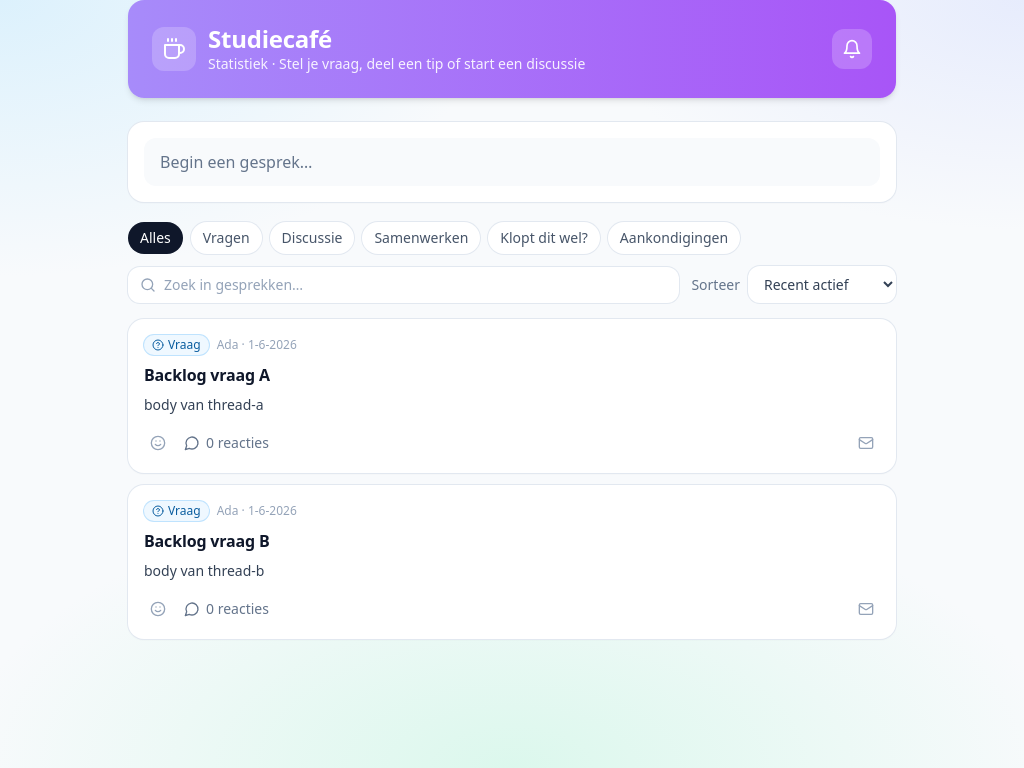
StudiecafePage — bewust ongelezen markeren › markeert een backlog-thread als "Nieuw" en toont de ongelezen-banner
expect the element with test id "thread-thread-a" is shown: met, box [128, 319, 896, 473]
Click the button with test id "button-mark-unread-thread-a" at (866, 443), box [852, 429, 880, 457]
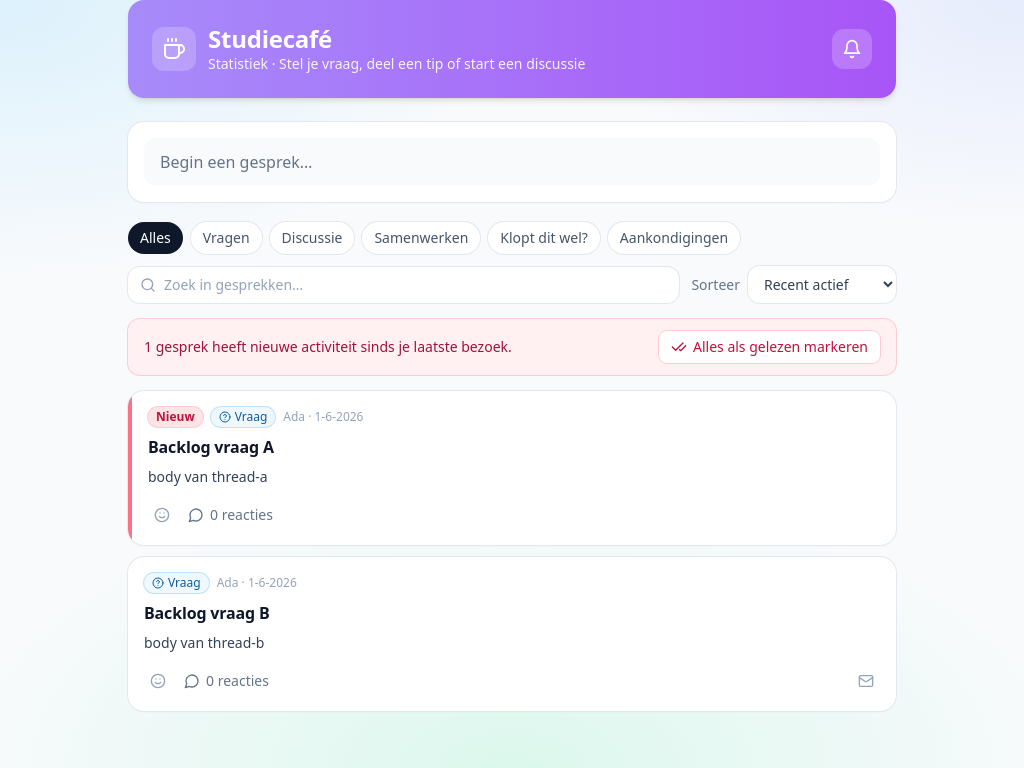
expect the text with test id "badge-unread-thread-a" reads "Nieuw": met, box [156, 408, 195, 425]
expect the element with test id "banner-unread" shows "1 gesprek heeft nieuwe activiteit sinds je laatste bezoek.": met, box [144, 337, 512, 356]
expect the button with test id "button-mark-unread-thread-a" is gone: met
